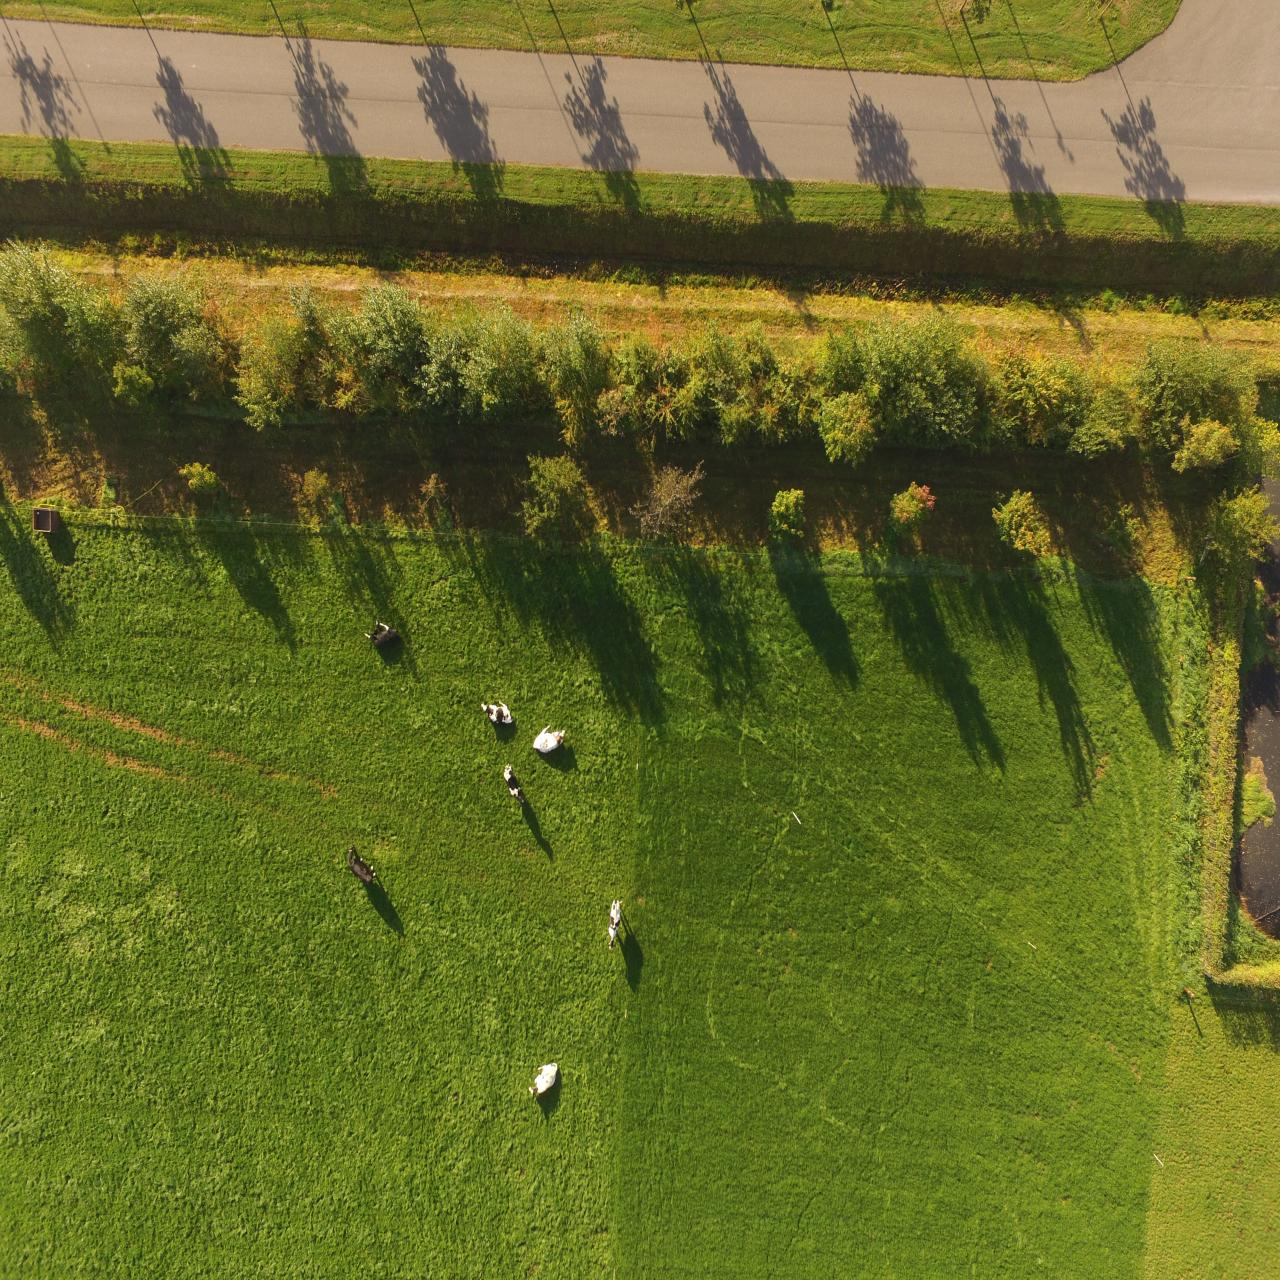cow: (366, 613, 406, 661), (349, 837, 380, 896), (525, 1057, 560, 1102), (531, 720, 568, 758), (602, 893, 626, 951), (478, 694, 515, 729), (501, 769, 530, 810)
